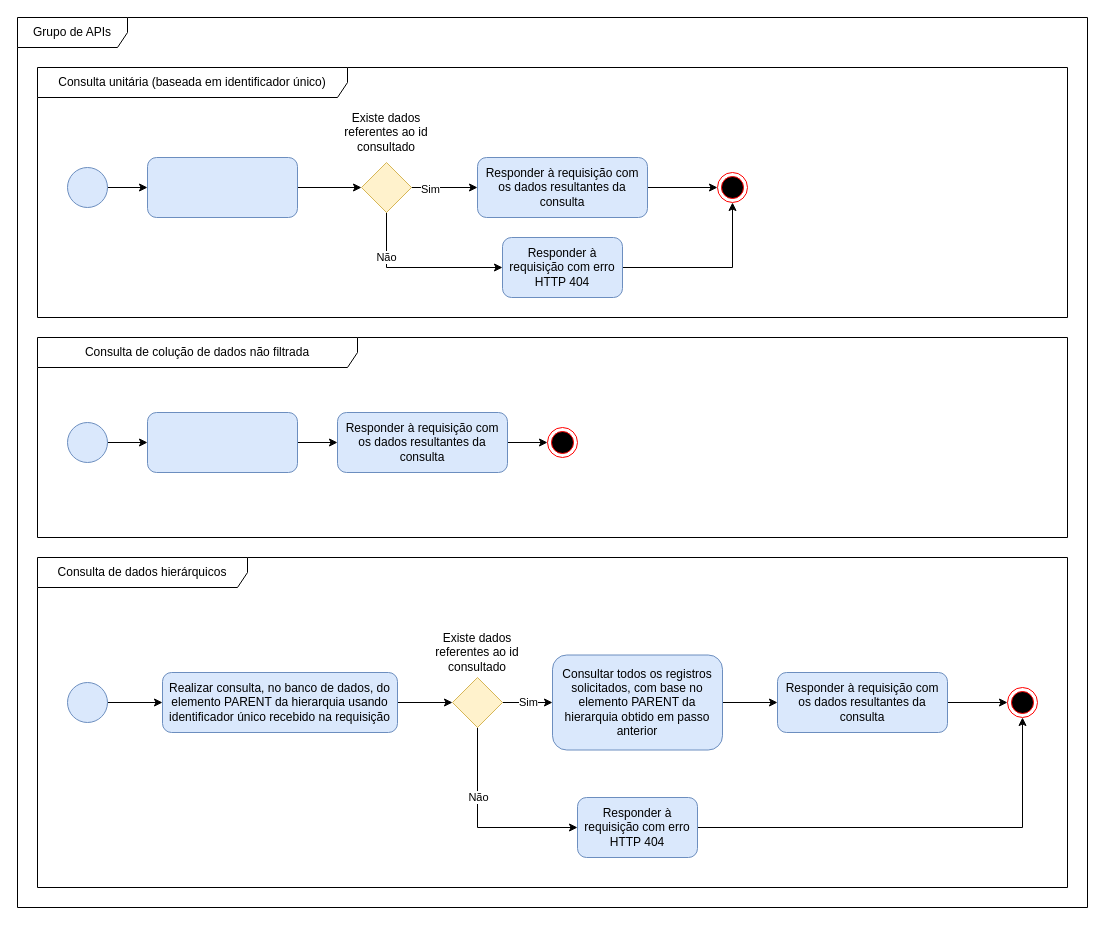
Image size: 1105x925. Some labels were removed from this diagram. Each missing label, with the centre of its shape:
Consultar no banco de dados o registro referente ao id recebido: the point at 222,187
Consultar todos os registros de uma determinada tabela do banco de dados: the point at 222,442
